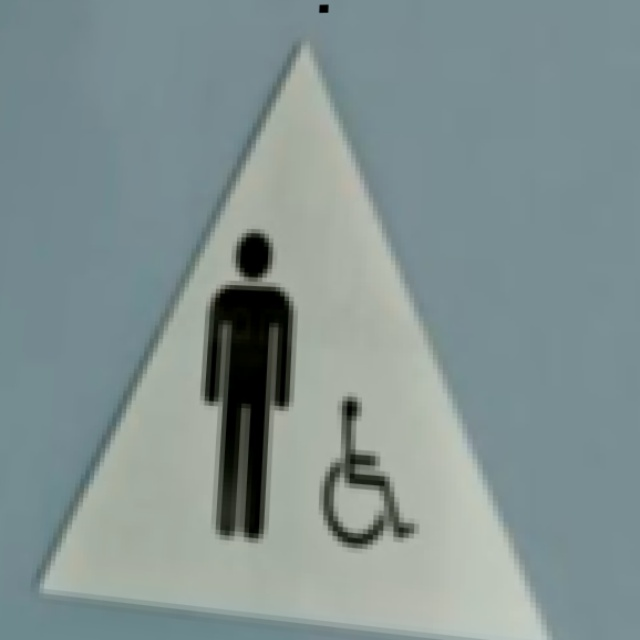ISA: (319, 390, 418, 554)
